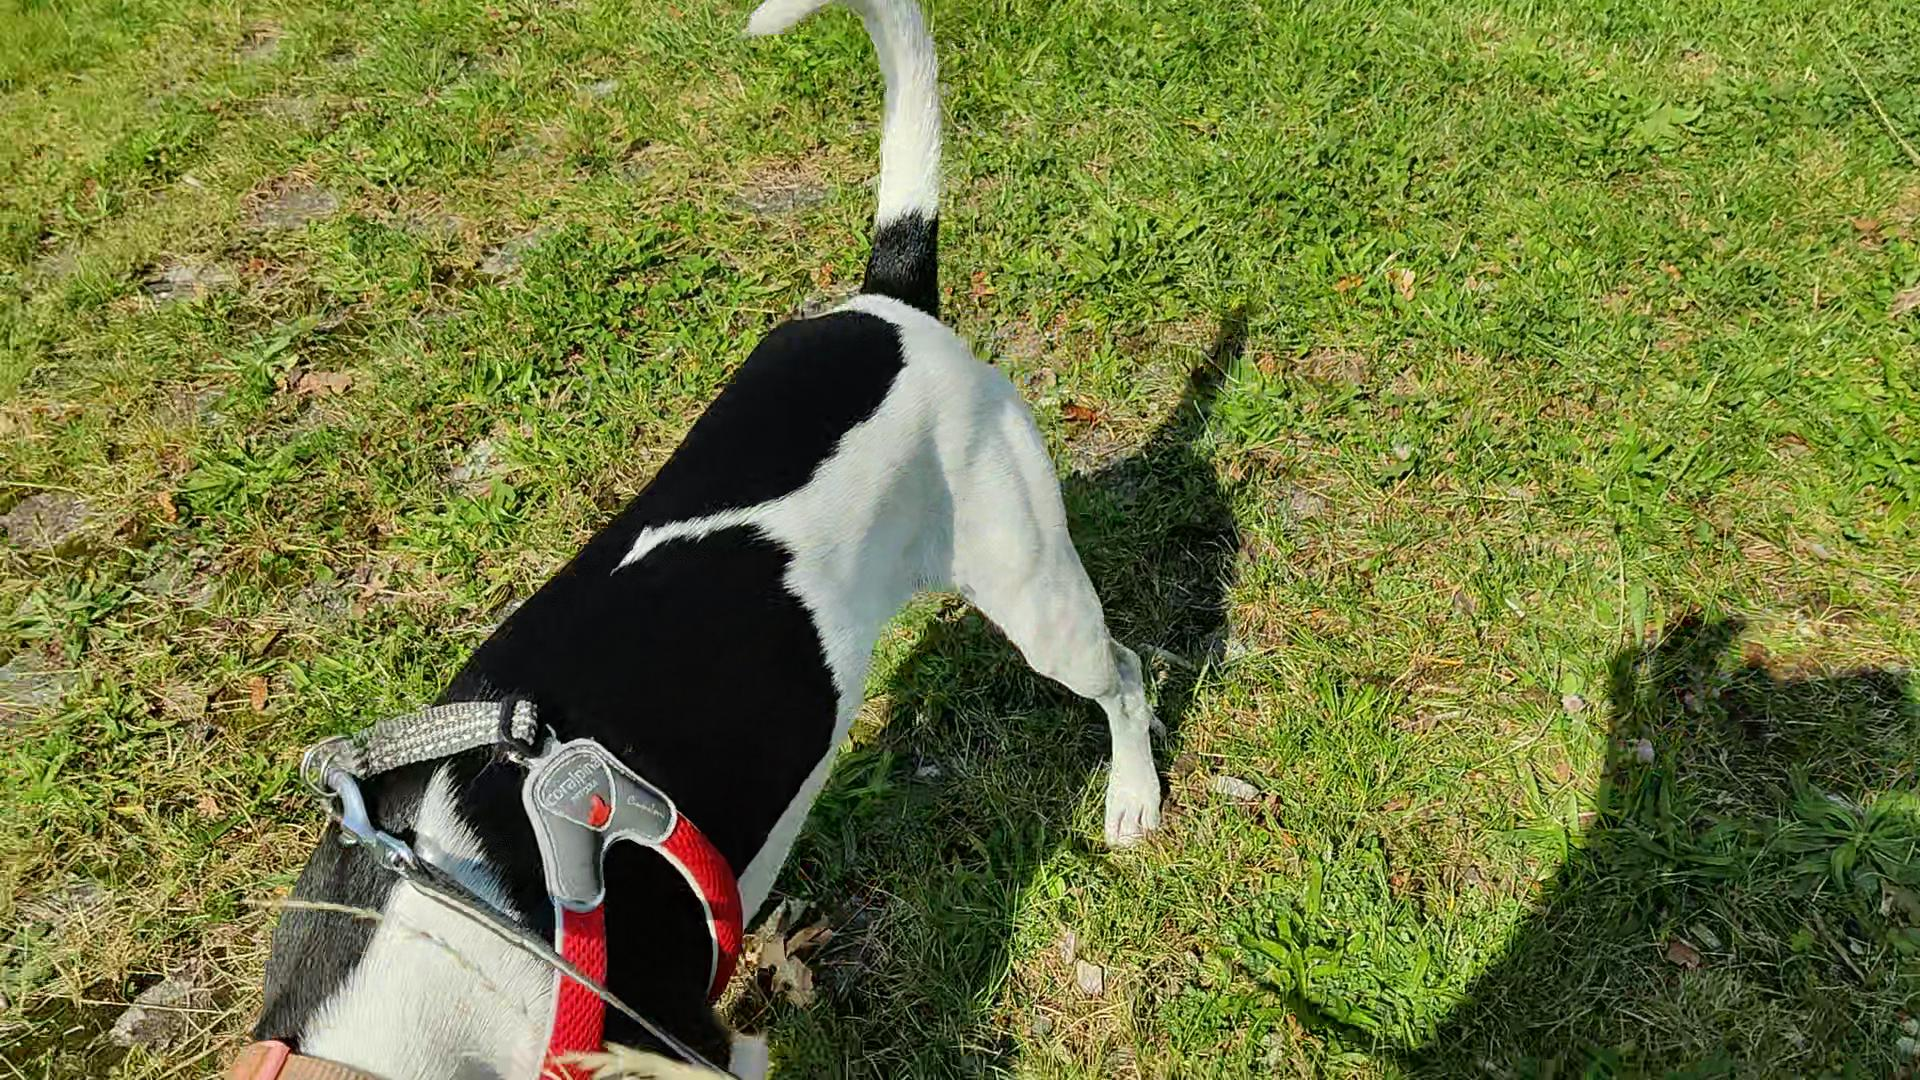Dog: (187, 0, 1176, 1079)
